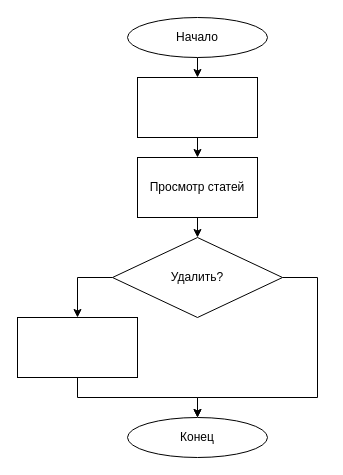
The diagram is 343 pixels wide and 475 high, and some of its shapes have lost their labels. Each missing label, with the centre of its shape:
"Выбор соответствующего пункта меню" goes at pixel 197 107.
"Удаление статьи" goes at pixel 77 347.
